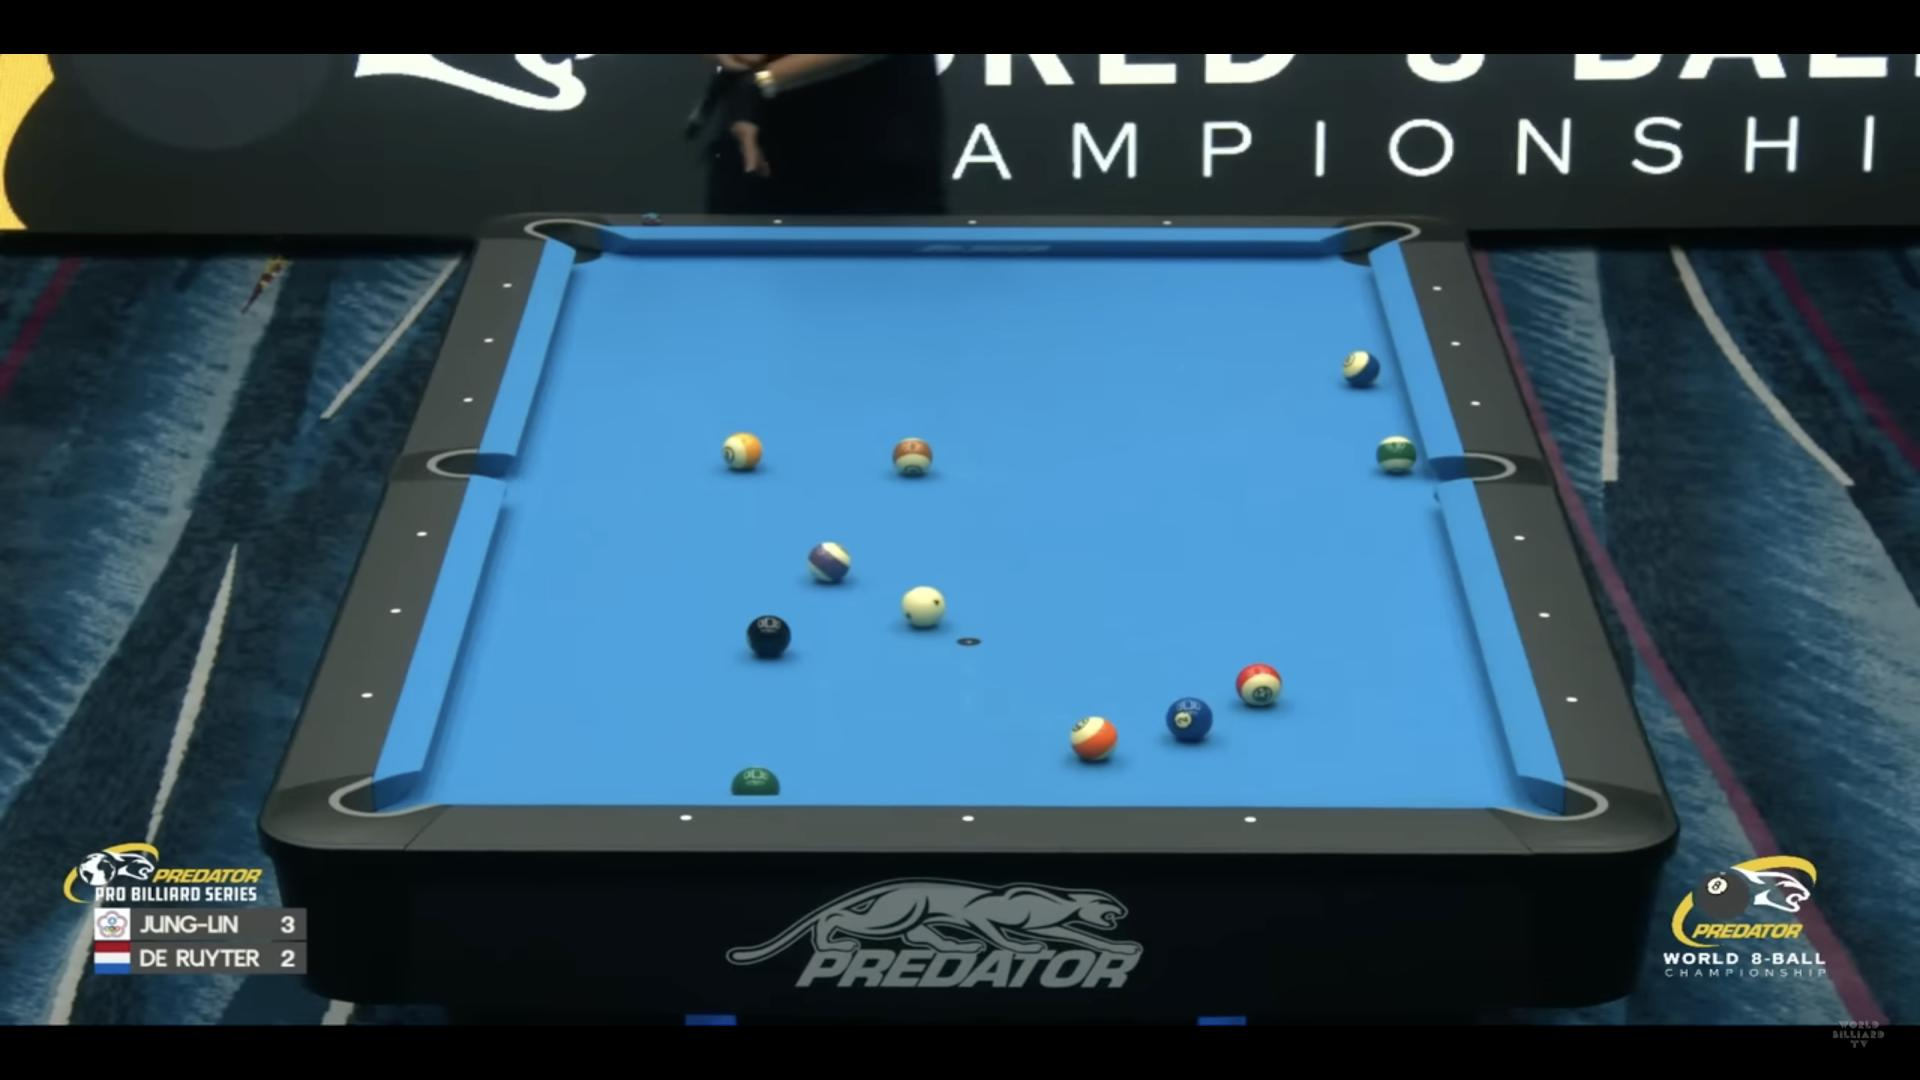Black: (746, 615, 793, 654)
Cue: (902, 585, 945, 628)
Dot: (676, 811, 694, 825), (960, 811, 977, 825), (1244, 812, 1261, 827), (386, 604, 404, 618), (357, 688, 373, 703), (414, 527, 430, 542), (1538, 608, 1551, 621), (1513, 533, 1526, 546), (1565, 694, 1580, 705), (771, 216, 785, 228), (1470, 398, 1482, 410), (1162, 216, 1174, 228), (1451, 339, 1462, 349), (1431, 284, 1443, 294), (967, 216, 978, 227), (463, 396, 473, 406), (484, 335, 495, 345), (502, 280, 513, 290)
Solid: (1166, 698, 1215, 740), (732, 767, 781, 798)
Striped: (1069, 716, 1117, 761), (1236, 663, 1280, 705), (807, 542, 852, 583), (891, 436, 932, 476), (723, 431, 764, 469), (1377, 435, 1416, 472), (1342, 349, 1379, 386)
